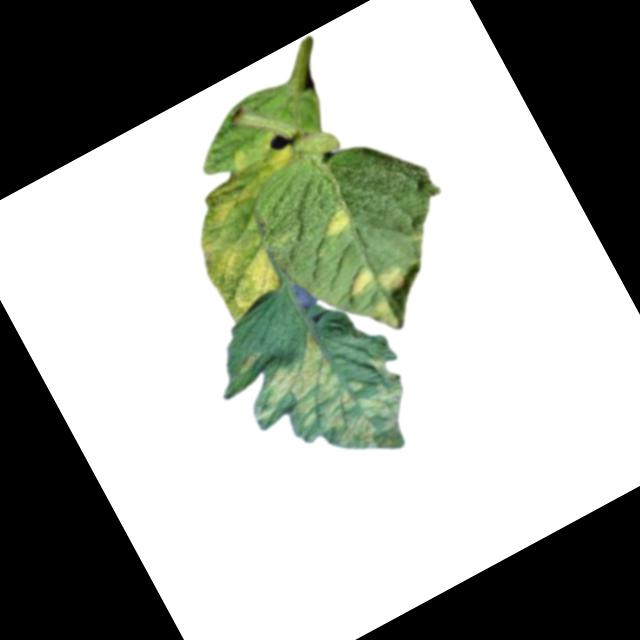Leaf_Mold: (230, 302, 429, 503), (171, 121, 312, 237), (189, 217, 286, 320), (313, 197, 360, 241), (365, 295, 405, 338), (374, 263, 411, 298), (341, 263, 379, 297)
